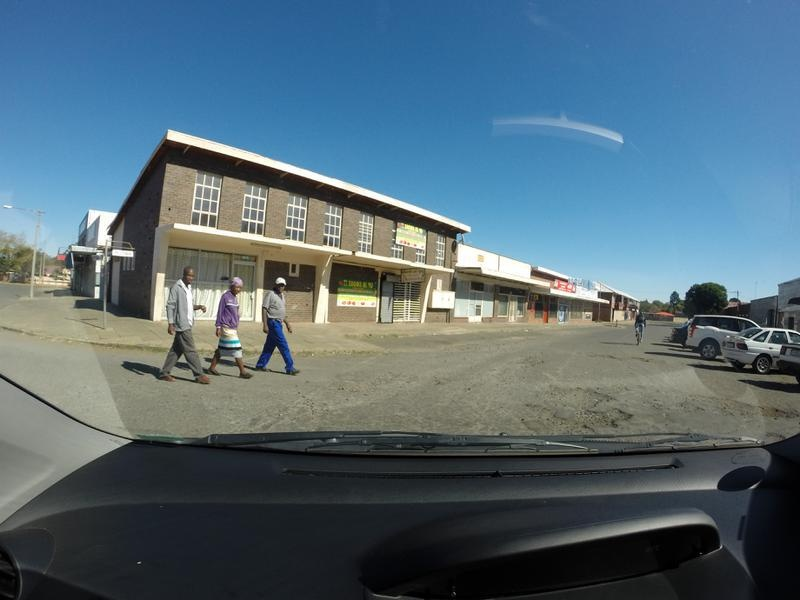pothole: (512, 384, 637, 434), (675, 391, 798, 426), (585, 351, 650, 367), (512, 351, 547, 371)
